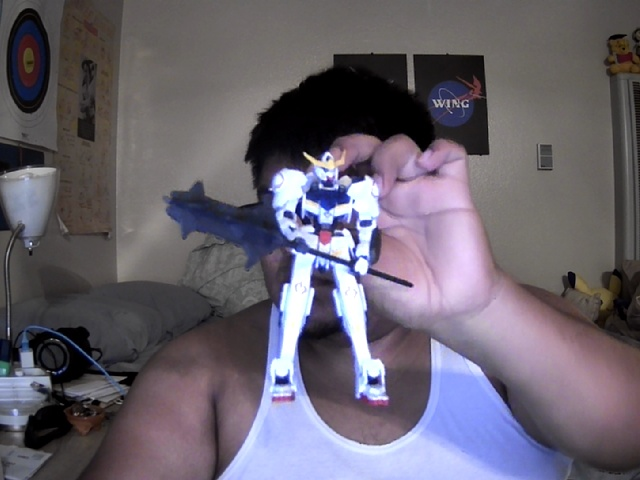Barbatos: (162, 149, 415, 407)
